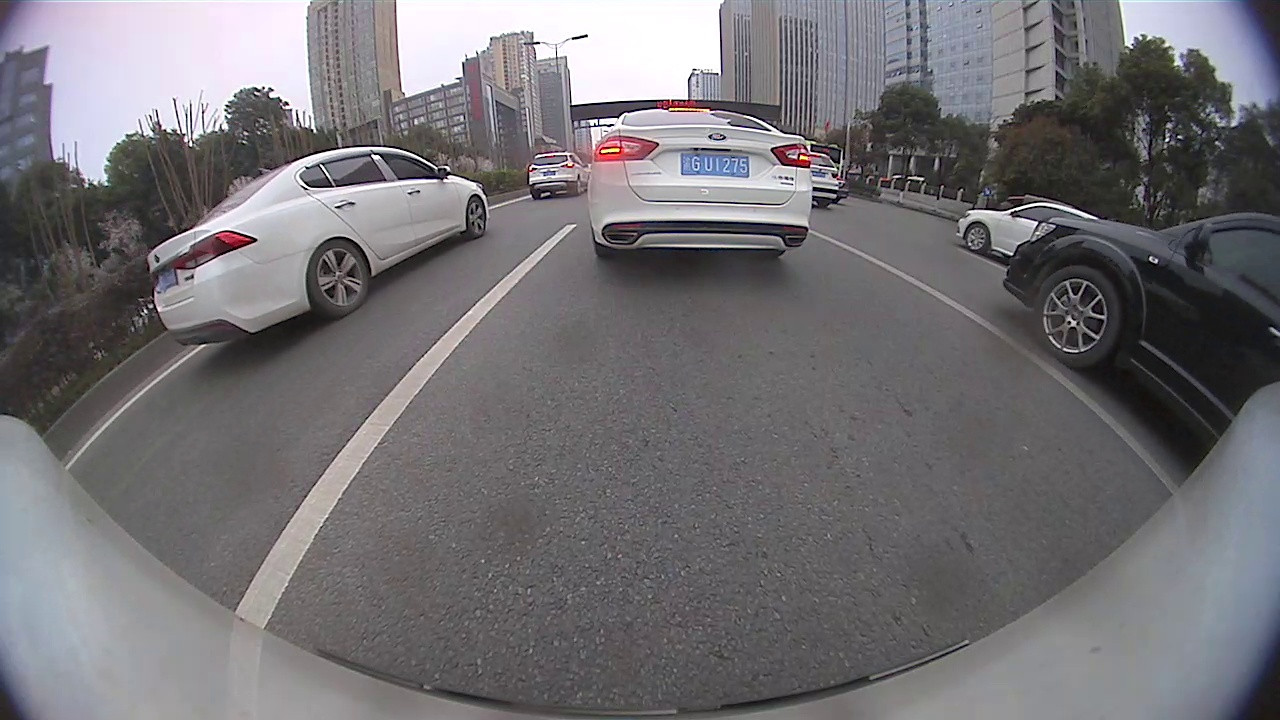car: (146, 146, 490, 347), (1002, 212, 1279, 451), (586, 106, 813, 259), (957, 201, 1100, 258), (527, 151, 589, 200), (808, 151, 840, 209)
front: (1033, 265, 1119, 369), (464, 192, 491, 240), (964, 220, 992, 254)
rear: (306, 240, 373, 313)
